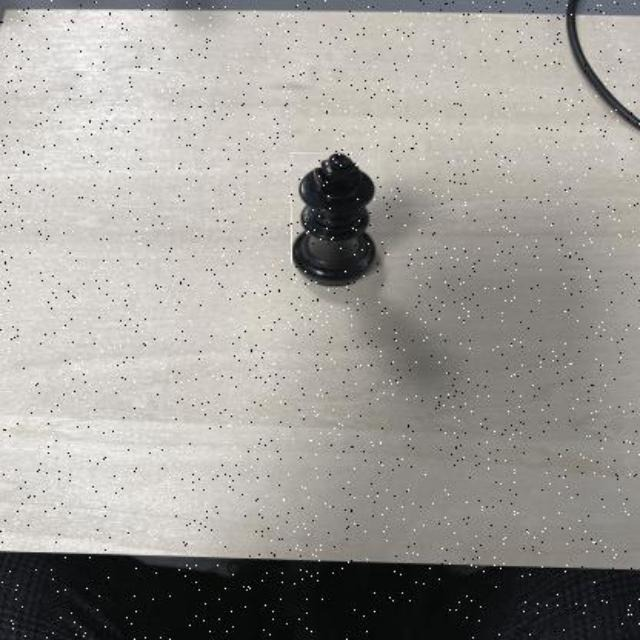black-king: (292, 153, 382, 285)
